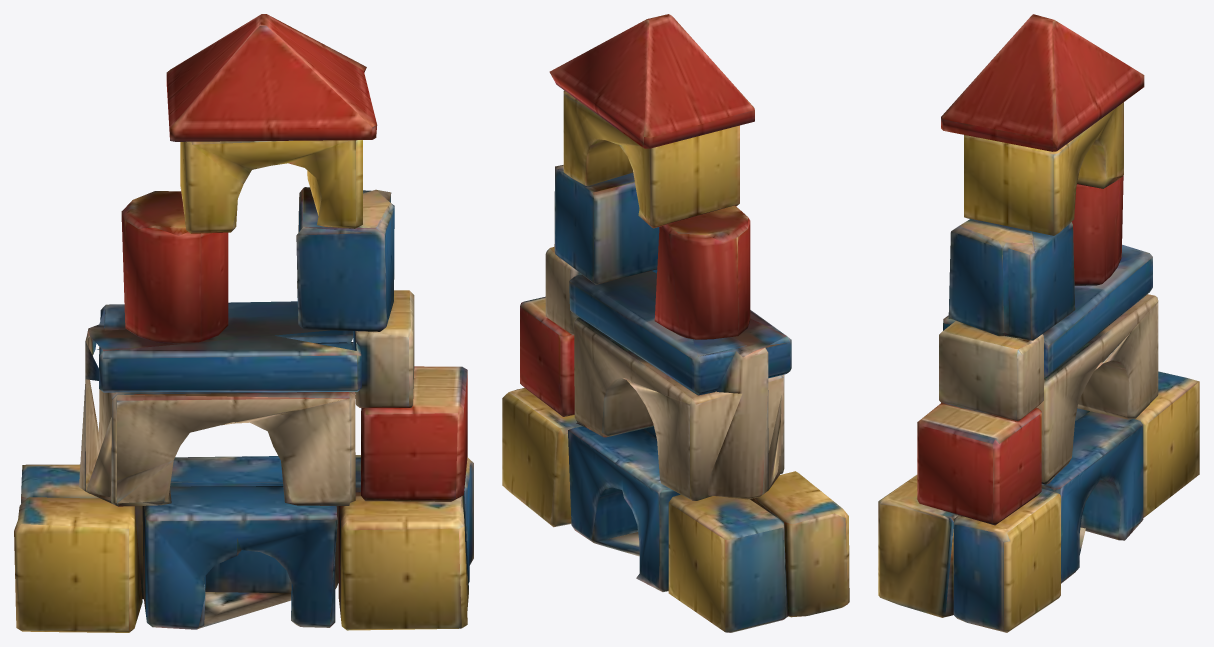
Rendered from prop_toy_blocks.glb.
The picture shows the model from 3 angles, left to right: view 1: azimuth 30°, elevation 25°; view 2: azimuth 150°, elevation 25°; view 3: azimuth 270°, elevation 25°; orthographic projection. The views are drawn at different scales.
Bounding box in the file's own units: 0.2007 × 0.2651 × 0.145.
1 material, 1 textured.
